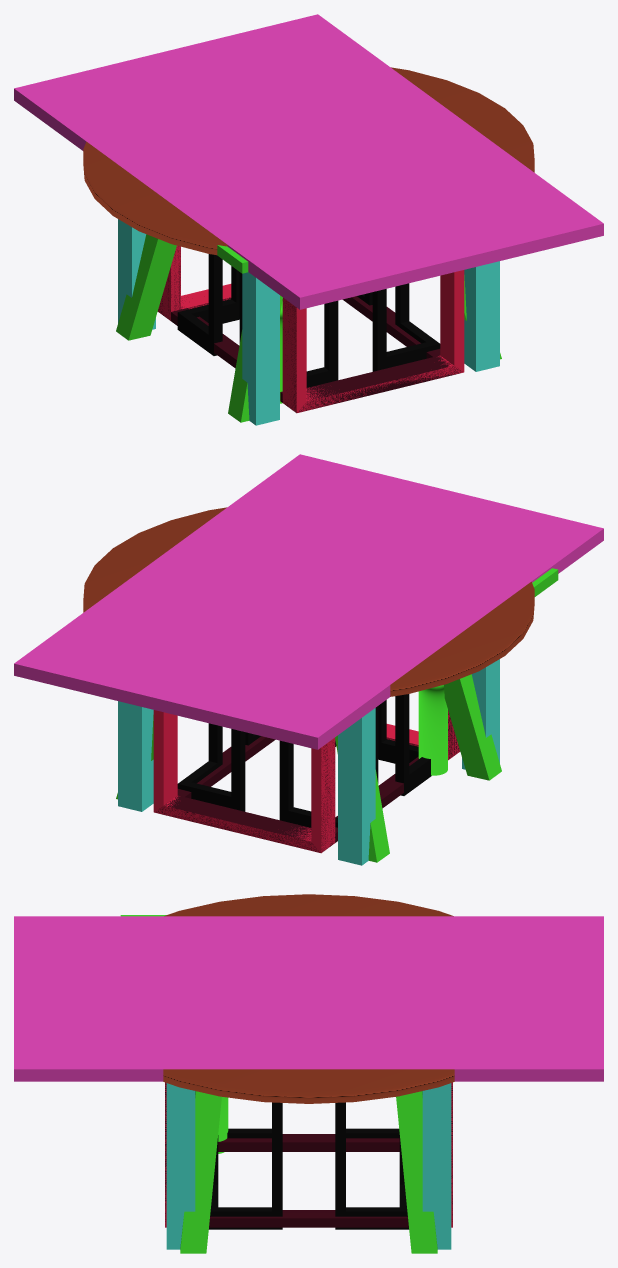
The model's file is table1.gltf.
The picture shows the model from 3 angles, top to bottom: view 1: azimuth 30°, elevation 25°; view 2: azimuth 150°, elevation 25°; view 3: azimuth 270°, elevation 25°; orthographic projection. The views are drawn at different scales.
Visible parts, largest first — view 1: obdelnik, Nohy.001, kruh, nohy05, Nohy02, nohy06, nohy03; view 2: obdelnik, Nohy.001, kruh, nohy05, Nohy02, nohy06, nohy03, nohy04; view 3: obdelnik, kruh, Nohy.001, nohy03, nohy05, nohy06, Nohy02.
Boxes of the visible parts, x1,y1,x2,y2 form: obdelnik: (14,14,603,309); Nohy.001: (118,219,499,425); kruh: (83,67,534,255); nohy05: (177,254,440,387); Nohy02: (158,245,464,412); nohy06: (158,246,462,412); nohy03: (116,234,501,422); obdelnik: (14,454,603,749); Nohy.001: (118,659,499,865); kruh: (83,507,534,696); nohy05: (177,694,431,827); Nohy02: (153,710,459,853); nohy06: (156,711,459,852); nohy03: (116,674,501,862); nohy04: (418,685,447,775); obdelnik: (14,916,603,1081); kruh: (163,894,454,1103); Nohy.001: (166,1083,451,1249); nohy03: (180,1091,437,1253); nohy05: (208,1102,409,1229); nohy06: (165,1082,452,1227); Nohy02: (165,1082,452,1227).
Bounding box in the file's own units: 2.91 × 1.35 × 3.68.
